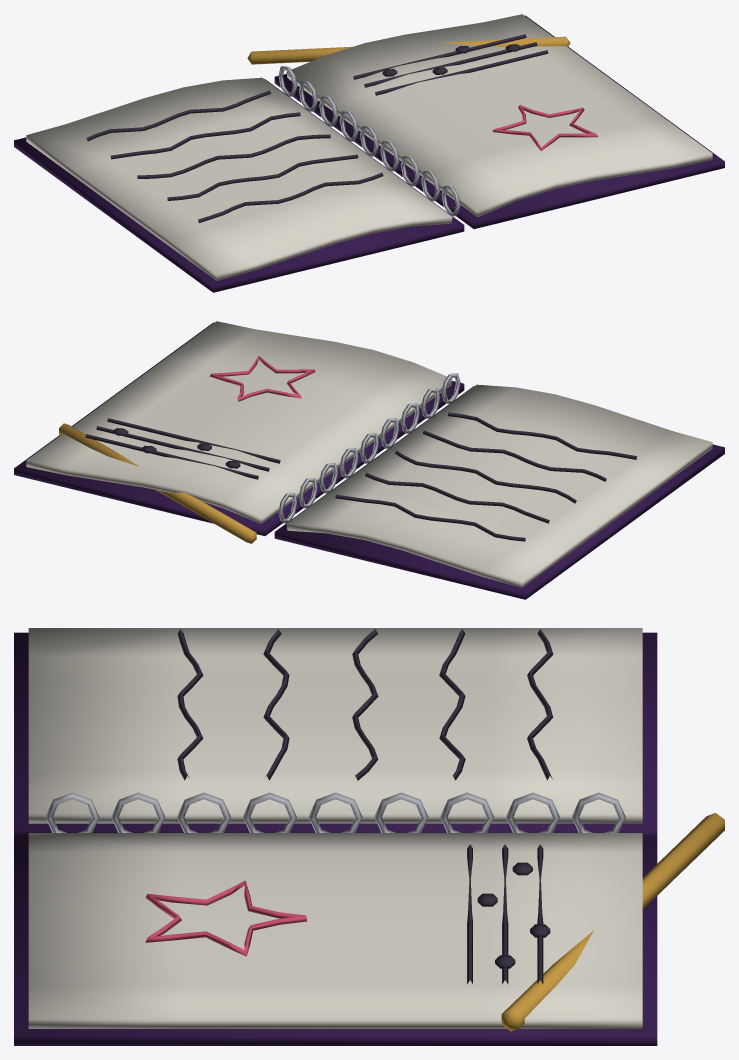
The model's file is notebook_open.glb.
The picture shows the model from 3 angles, top to bottom: view 1: azimuth 30°, elevation 25°; view 2: azimuth 150°, elevation 25°; view 3: azimuth 270°, elevation 25°; orthographic projection. The views are drawn at different scales.
Parts seen in each view (by area): view 1: notebook_open; view 2: notebook_open; view 3: notebook_open.
Part boxes in pixels (box(x1,y1,x2,y2)): notebook_open: box(14, 14, 724, 292); notebook_open: box(14, 321, 724, 599); notebook_open: box(14, 628, 724, 1045).
Bounding box in the file's own units: 0.326 × 0.0193 × 0.2432.
